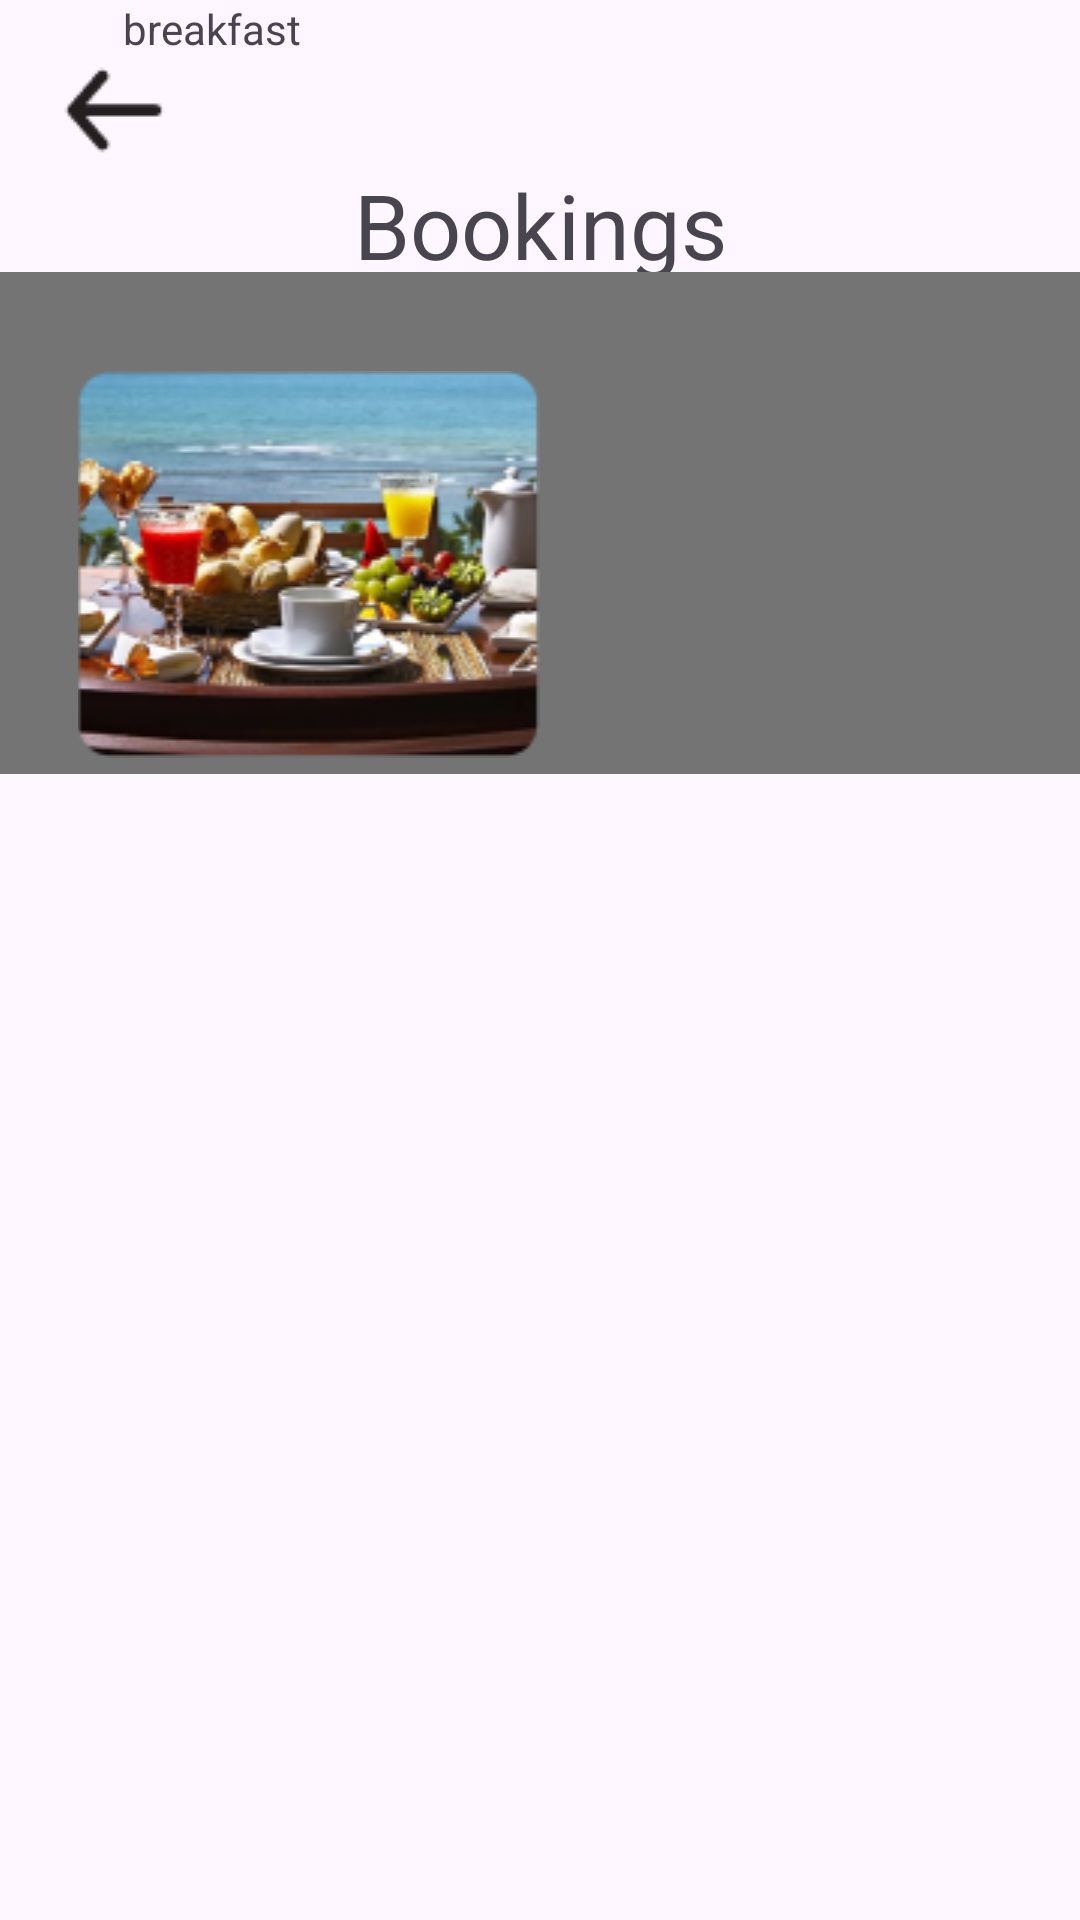

Where to tap for icons on this 1080w x 1920h app screen, as (x=x, y=y):
arrow back: (x=113, y=110)
